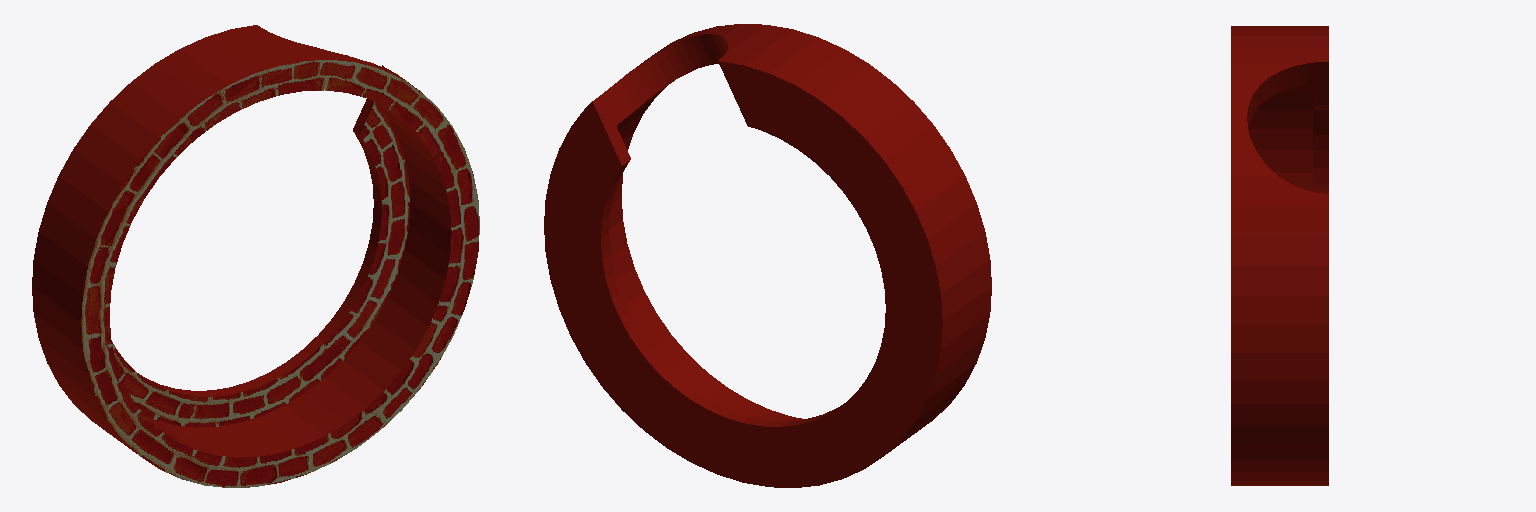
3 renders of one model, left to right at view 1: azimuth 30°, elevation 25°; view 2: azimuth 150°, elevation 25°; view 3: azimuth 270°, elevation 25°, orthographic.
Bounding box in the file's own units: 14 × 14 × 3.
Materials: 1 (1 with a texture image).